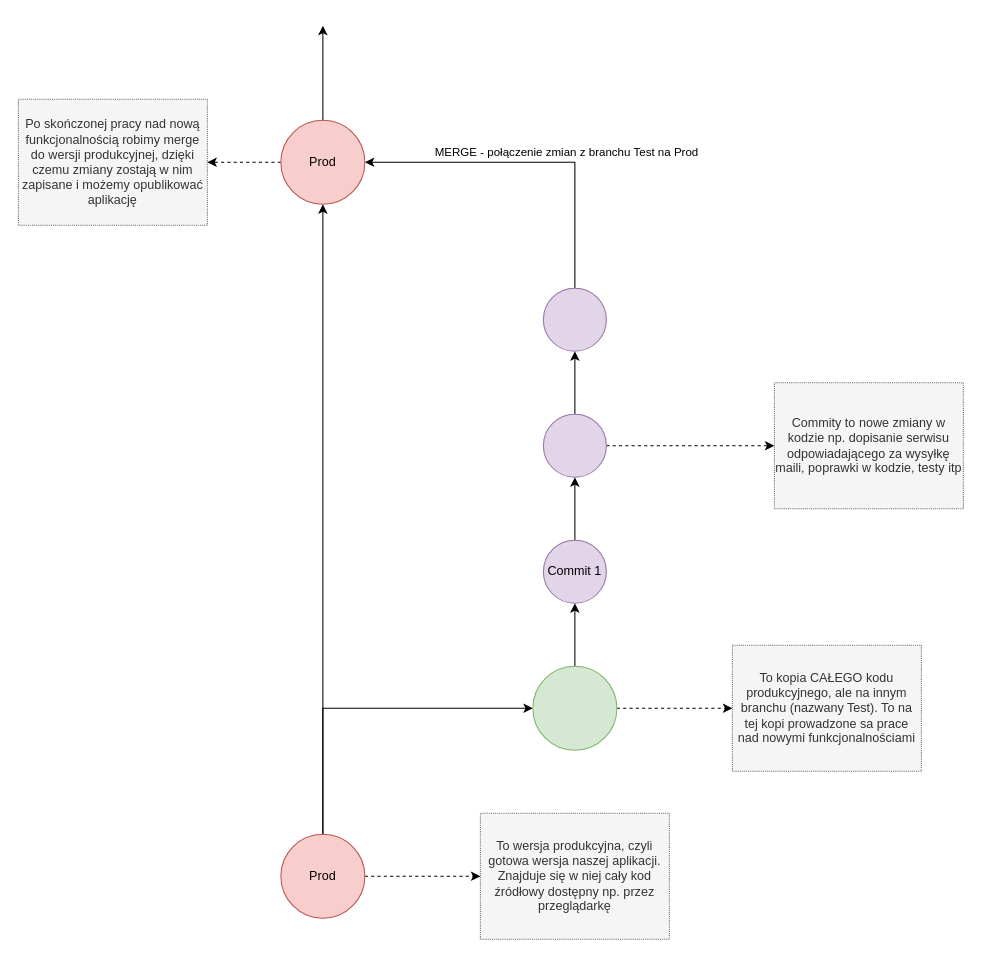
Image size: 982x958. Some labels were removed from this diagram. Here are the shapes that lost their labels. From the top down, the box of each, then its label:
(542, 287, 606, 351): Commit 3
(542, 413, 606, 477): Commit 2
(532, 665, 617, 750): Test
